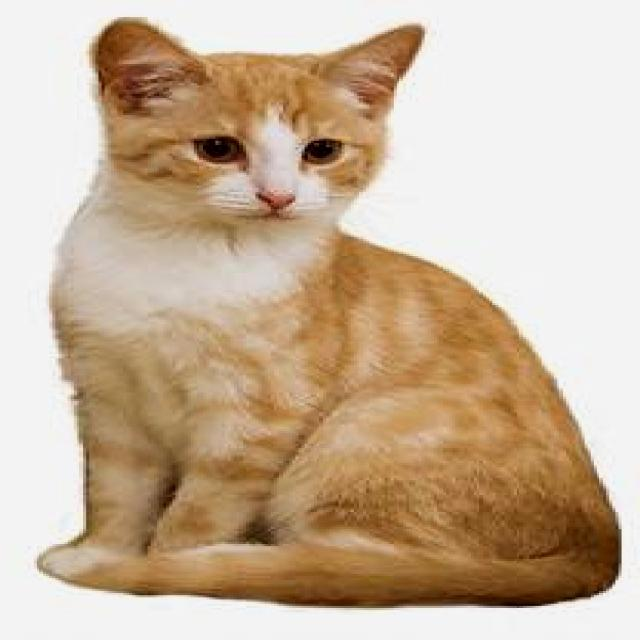KEDI: (26, 22, 618, 599)
